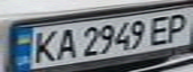2: (78, 24, 103, 57)
4: (115, 19, 136, 52)
9: (127, 18, 151, 51), (97, 21, 118, 55)
A: (51, 26, 81, 61)
E: (145, 14, 175, 47)
K: (27, 28, 60, 64)
P: (160, 10, 193, 43)
